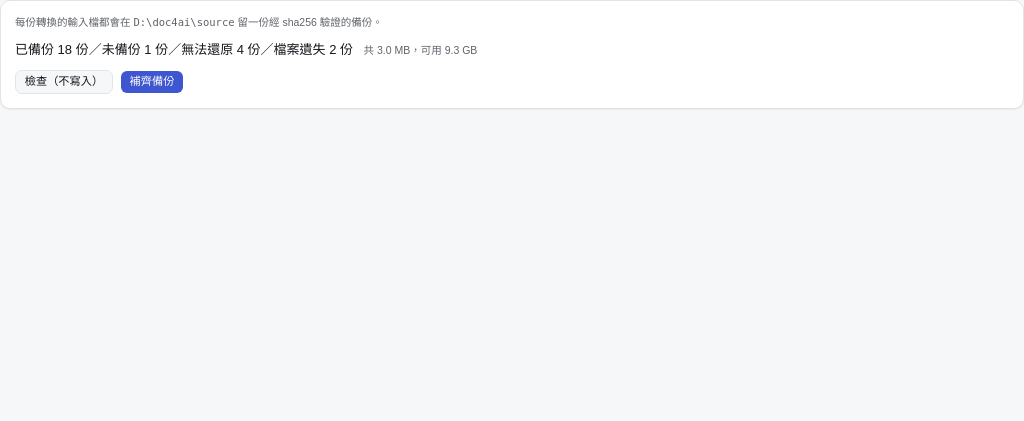
Test case: 檢查（不寫入） posts dry_run true and shows 將備份
Click the button "檢查（不寫入）".
click(64, 82)  # box [15,70,113,94]
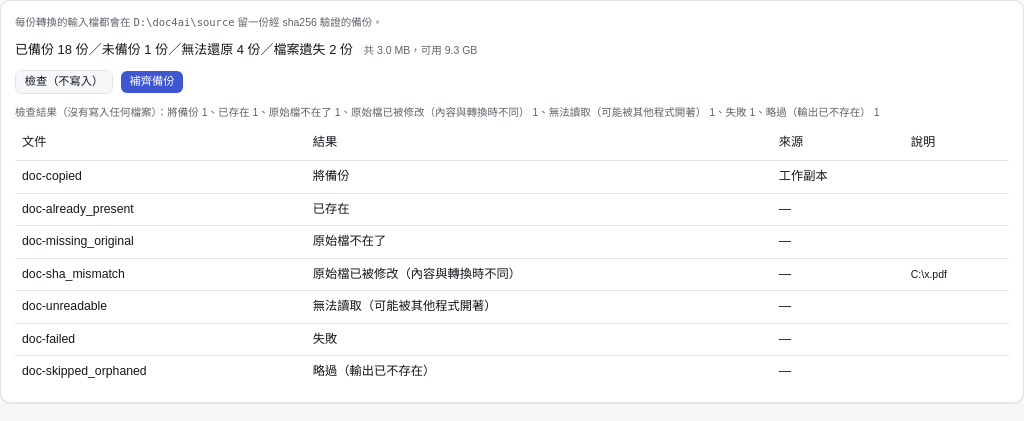
Now the text "將備份" is shown, box [306,160,772,193]
Now the text "工作副本" is shown, box [772,160,904,193]
Now the text "沒有寫入任何檔案" is shown, box [15,106,157,118]
